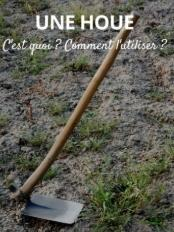HOUE: (12, 4, 143, 218)
